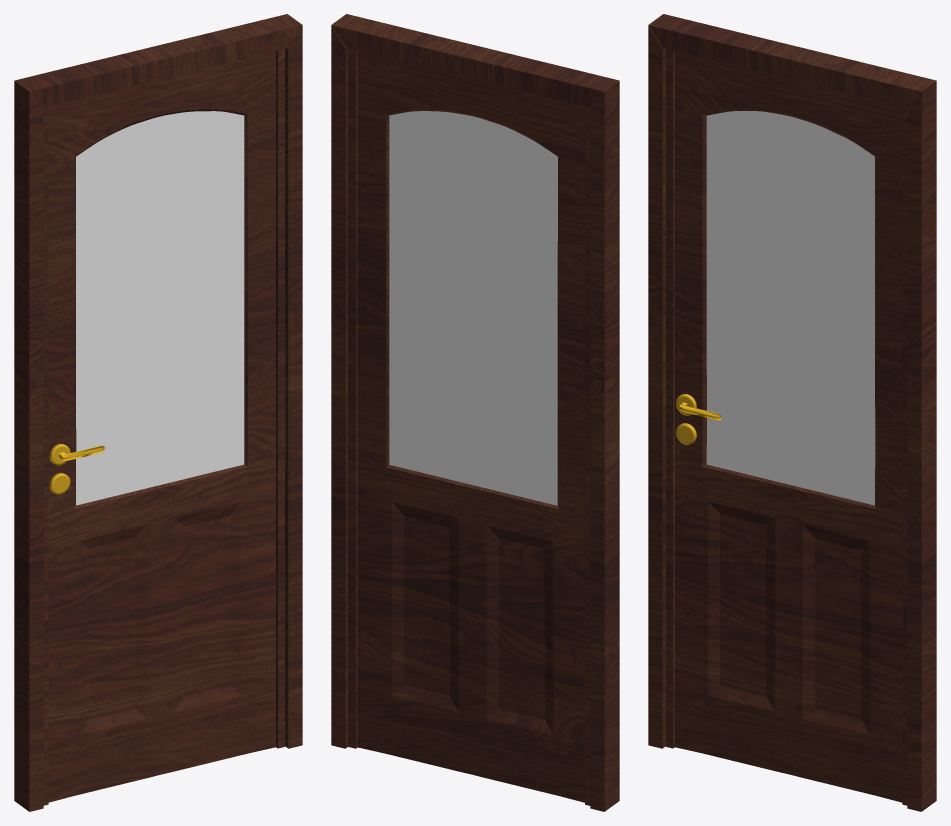
File: PUERTA3_PHILADELPHIA.glb
3 renders of one model, left to right at view 1: azimuth 30°, elevation 25°; view 2: azimuth 150°, elevation 25°; view 3: azimuth 330°, elevation 25°, orthographic.
Parts seen in each view (by area): view 1: Puerta3_PHILADEPHIA, Ventana, Puerta3_Marco, Puerta3_Cerradura; view 2: Puerta3_PHILADEPHIA, Ventana, Puerta3_Marco; view 3: Puerta3_PHILADEPHIA, Ventana, Puerta3_Marco, Puerta3_Cerradura.
Part boxes in pixels (x1=…): Puerta3_PHILADEPHIA: x1=43, y1=49, x2=285, y2=805; Ventana: x1=76, y1=111, x2=244, y2=505; Puerta3_Marco: x1=14, y1=14, x2=302, y2=811; Puerta3_Cerradura: x1=49, y1=443, x2=104, y2=494; Puerta3_PHILADEPHIA: x1=348, y1=49, x2=590, y2=805; Ventana: x1=389, y1=111, x2=557, y2=505; Puerta3_Marco: x1=331, y1=14, x2=619, y2=811; Puerta3_PHILADEPHIA: x1=666, y1=49, x2=907, y2=805; Ventana: x1=706, y1=111, x2=875, y2=505; Puerta3_Marco: x1=648, y1=14, x2=936, y2=811; Puerta3_Cerradura: x1=675, y1=394, x2=721, y2=444.
Size of the model in its own units: 769 by 1936 by 85.
Materials: 3 (1 with a texture image).
